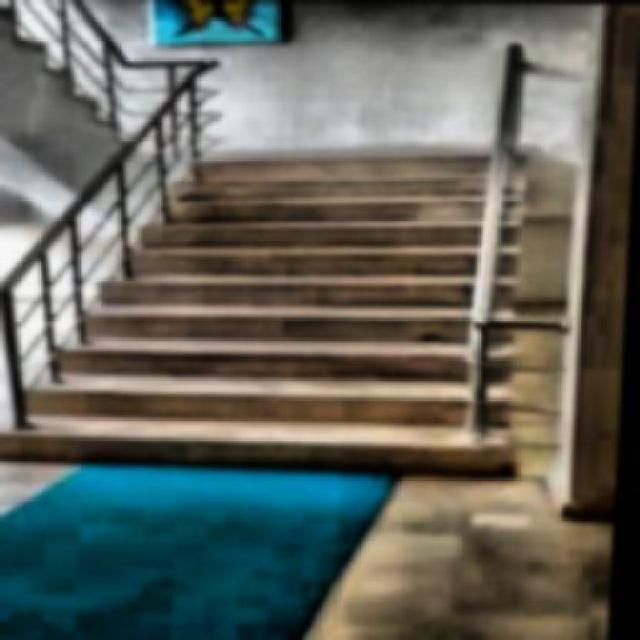stair: (4, 151, 534, 466)
